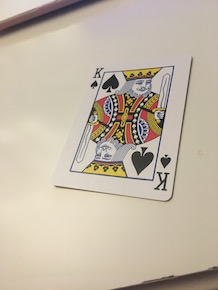KingOfSpades: (50, 52, 200, 203)
